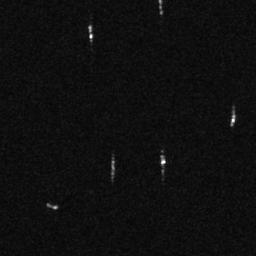ship: (109, 159, 116, 177), (45, 203, 59, 210), (230, 114, 237, 126), (160, 155, 166, 166), (88, 33, 94, 39)
